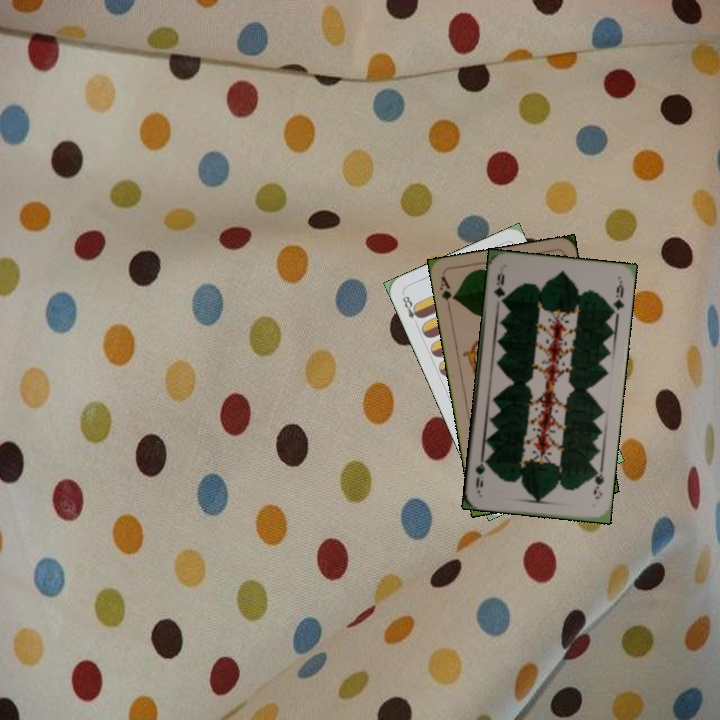E8: (398, 290, 424, 329)
G9: (589, 465, 607, 502), (490, 268, 507, 306)
GA: (436, 272, 458, 313)
